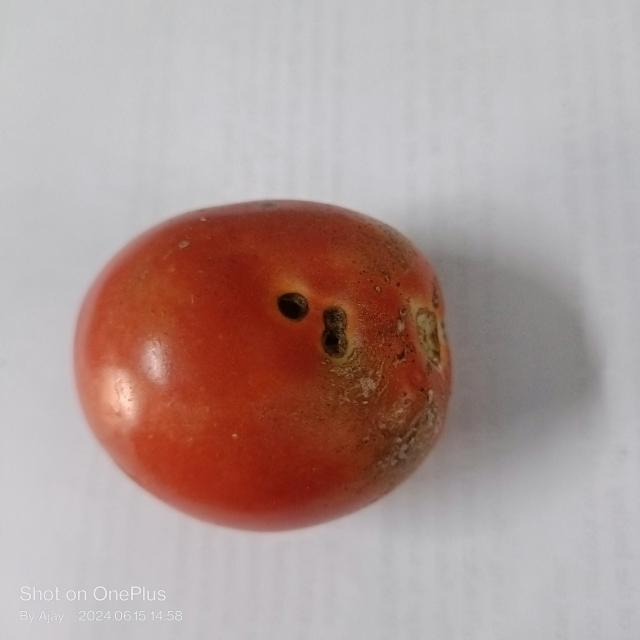fruitworm_bore: (266, 279, 371, 382)
